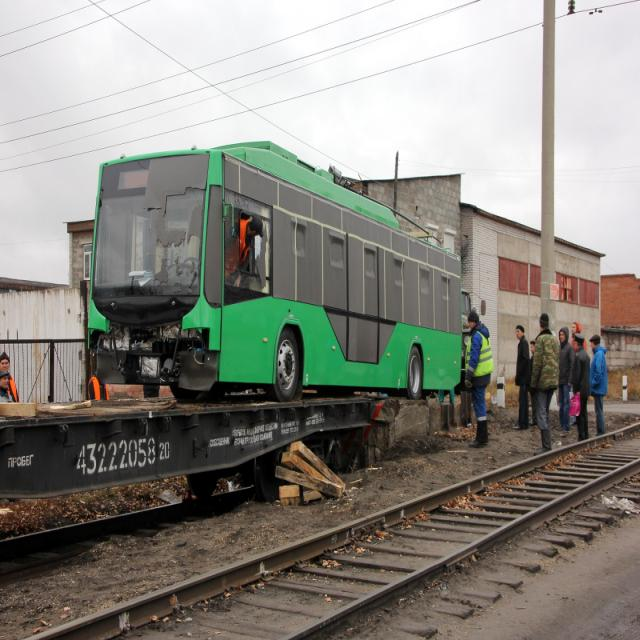flatcar: (0, 390, 377, 514)
